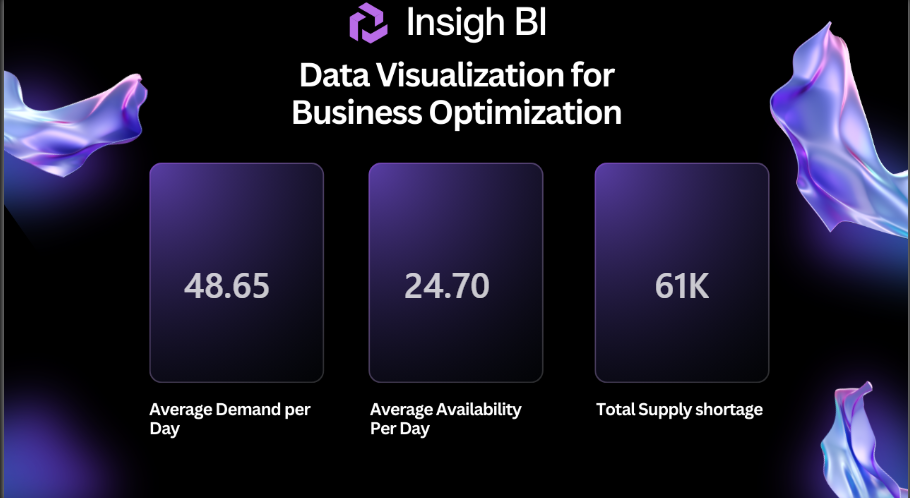

What the dashboard file says about the page in this screenshot:
{"tool":"powerbi","page":{"name":"Page 1","canvas":[1280,720],"ordinal":0},"visuals":[{"type":"cardVisual","fields":{"Data":["Measure Table.Average Demand Per Day"]},"box":[221.1,341.6,191.3,131.8],"z":0},{"type":"cardVisual","fields":{"Data":["Measure Table.Average Availability Per Day"]},"box":[535.7,341.6,184.3,131.8],"z":1000},{"type":"cardVisual","fields":{"Data":["Measure Table.Total Supply Shortage"]},"box":[880,341.4,161.4,131.4],"z":2000}]}

Visuals, with their boxes in screenshot pixels (x1, y1, x2, y2), scaled from the page's 1280x720 canvas onto the 910x498 screenshot:
cardVisual - Measure Table.Average Demand Per Day: {"x1": 157, "y1": 236, "x2": 293, "y2": 327}
cardVisual - Measure Table.Average Availability Per Day: {"x1": 381, "y1": 236, "x2": 512, "y2": 327}
cardVisual - Measure Table.Total Supply Shortage: {"x1": 626, "y1": 236, "x2": 740, "y2": 327}
